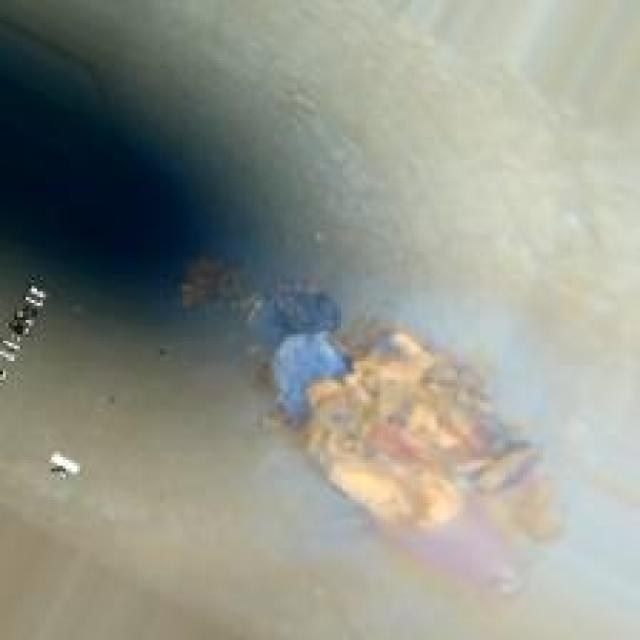stone: (172, 232, 552, 554)
